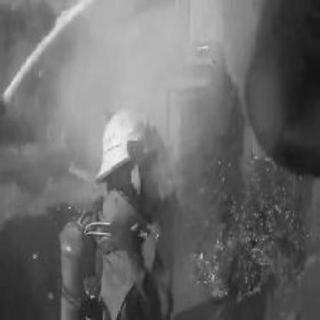other: (83, 99, 161, 189)
